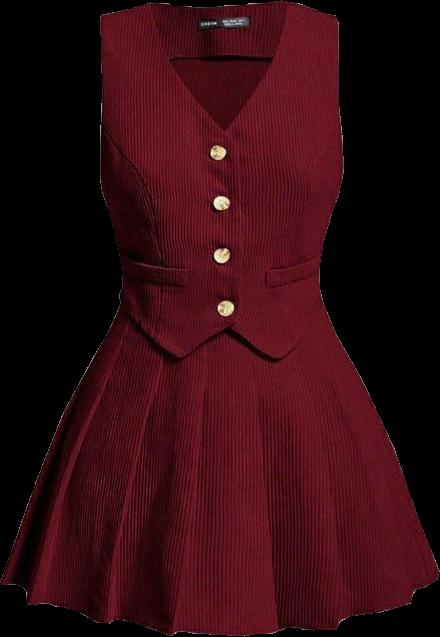Bodice: (100, 1, 343, 363)
Hemline: (0, 566, 439, 636)
Neckline: (148, 0, 293, 138)
Skirt: (0, 311, 438, 635)
Waistline: (116, 306, 330, 371)
